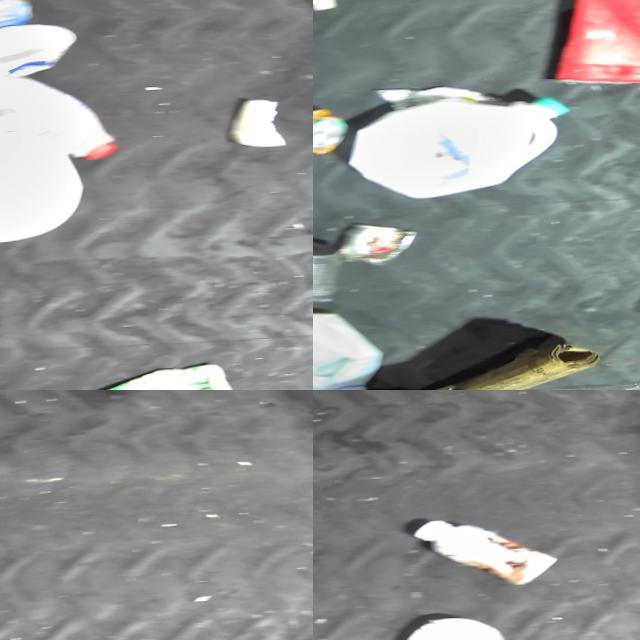can: (313, 232, 347, 304), (313, 104, 354, 155)
milk_jug: (348, 75, 576, 205), (0, 66, 123, 168), (313, 307, 397, 390)
non_white_jug: (557, 0, 640, 91)
